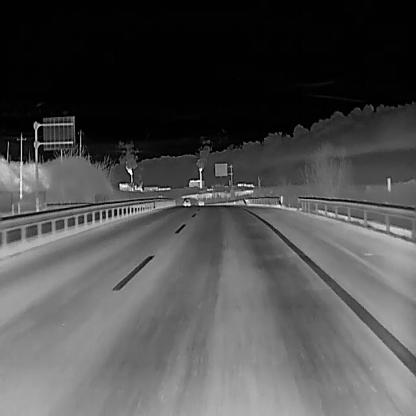car: (182, 196, 191, 206), (197, 198, 204, 206)
